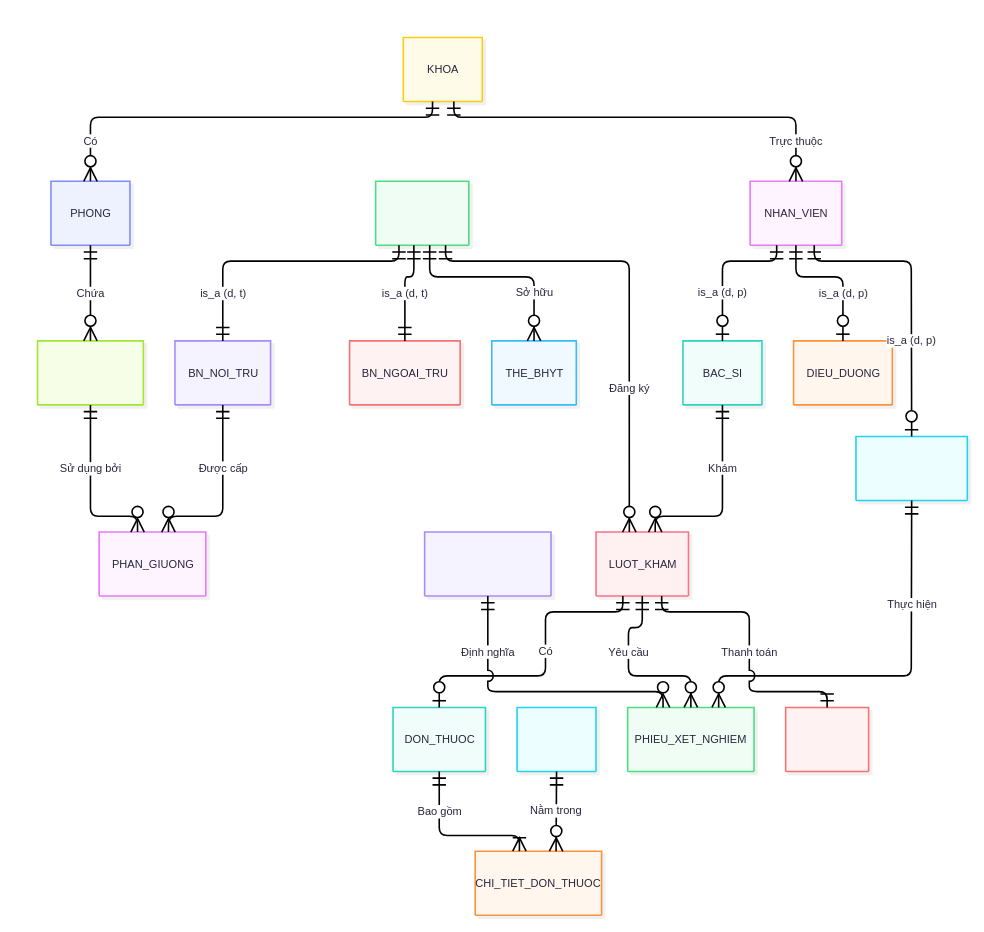
The diagram is 984 pixels wide and 932 high, and some of its shapes have lost their labels. Each missing label, with the centre of its shape:
"BENH_NHAN" belongs at (x=423, y=214).
"GIUONG_BENH" belongs at (x=91, y=374).
"KY_THUAT_VIEN" belongs at (x=913, y=469).
"LOAI_XET_NGHIEM" belongs at (x=489, y=565).
"THUOC" belongs at (x=558, y=740).
"VIEN_PHI" belongs at (x=828, y=740).
